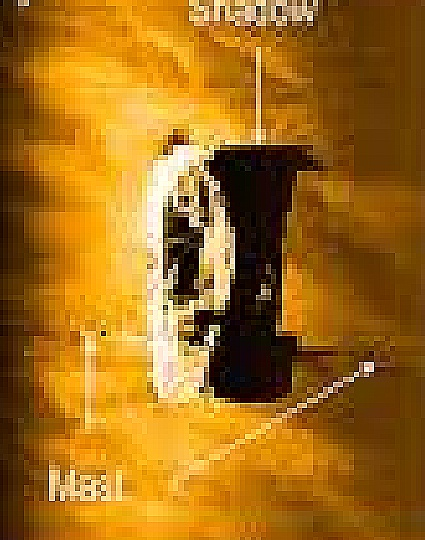ship: (140, 143, 239, 410)
